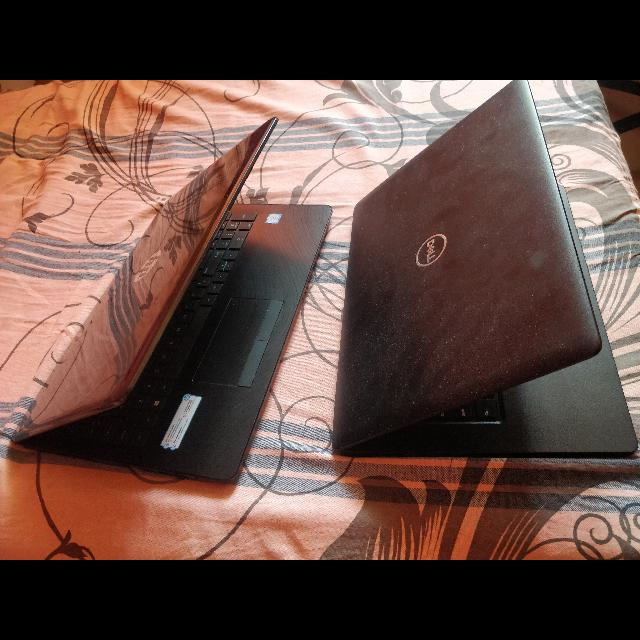Laptop: (9, 113, 338, 489), (326, 81, 640, 469)
